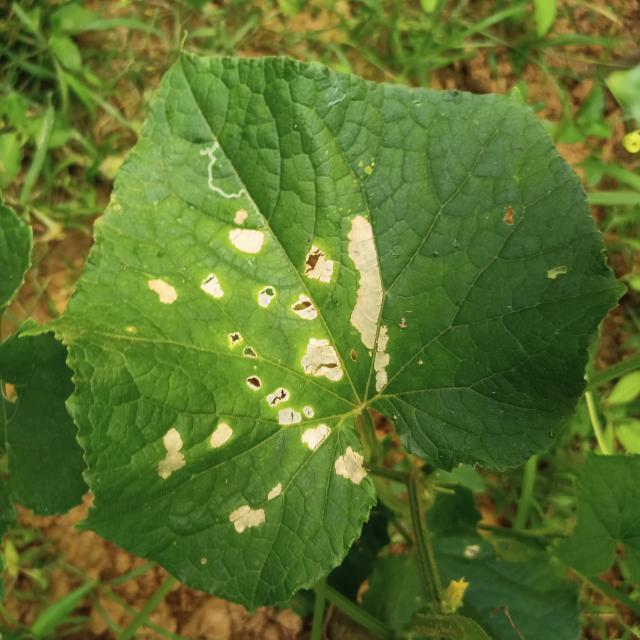disease_cucumber: (140, 206, 391, 494), (152, 418, 234, 482), (230, 484, 282, 539)
